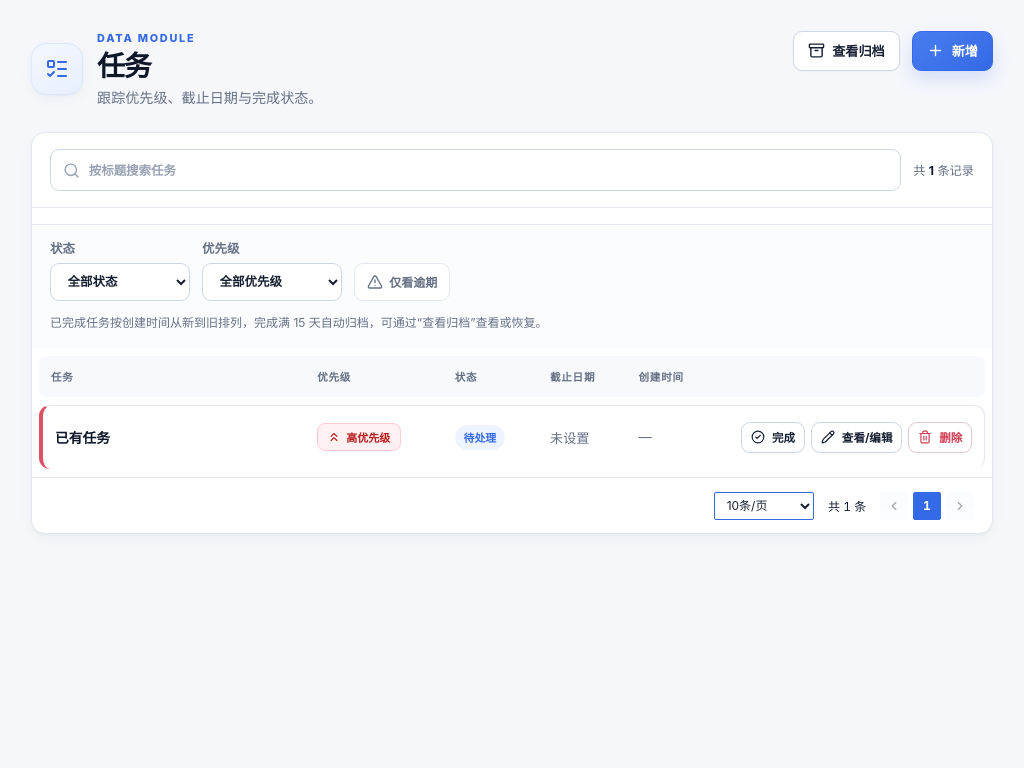
review report CRUD regressions › does not show a create/save form after detail HTTP 500; retry updates the existing revision
Click the button "查看/编辑". click: click(857, 438)
box: [811,422,902,453]
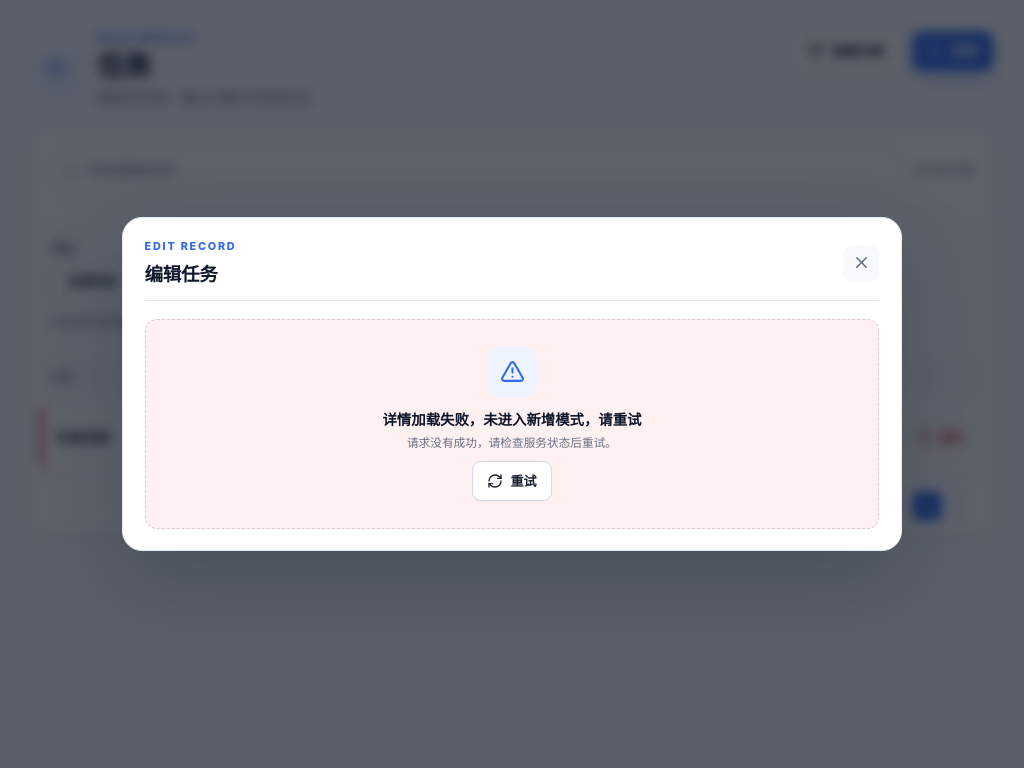
Expected: the button "保存" is not shown
Expected: the heading "详情加载失败，未进入新增模式，请重试" is shown, [382,408,642,429]
Expected: the heading "编辑任务" is shown, [145,263,218,285]
Click the button "重试". click: click(512, 481)
box: [472,461,552,501]
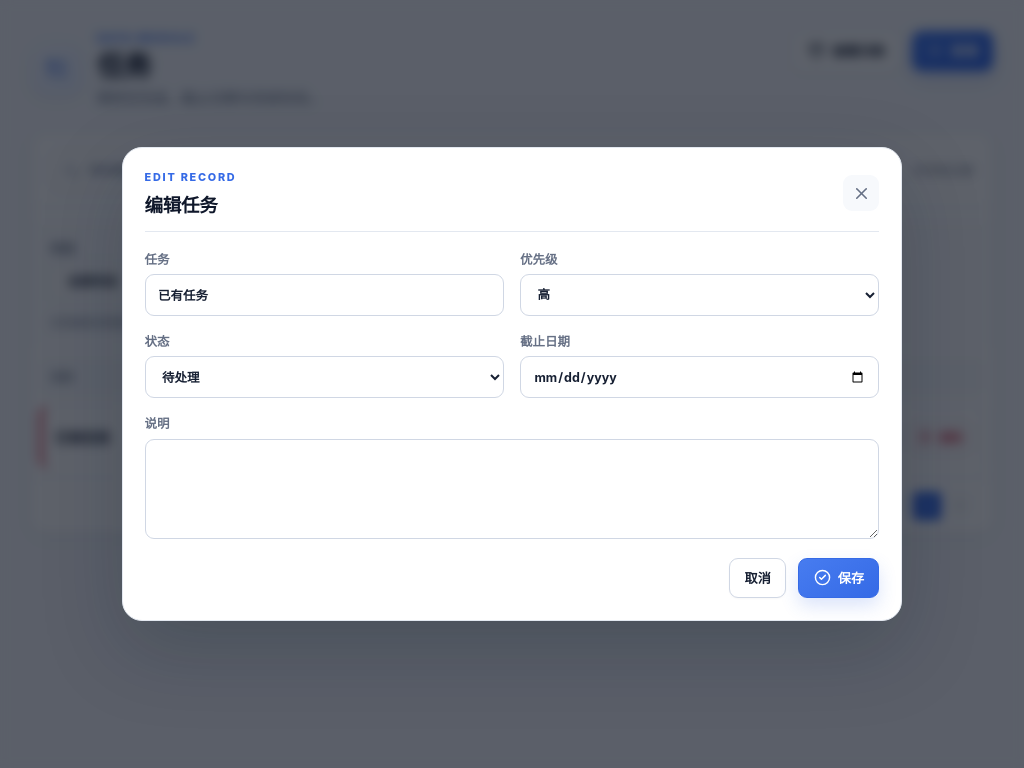
Expected: the field labelled "任务" holds "已有任务"
Replace the text in the field labelled "任务" with "修改后的任务". click: (324, 295)
box: [145,274,504,316]
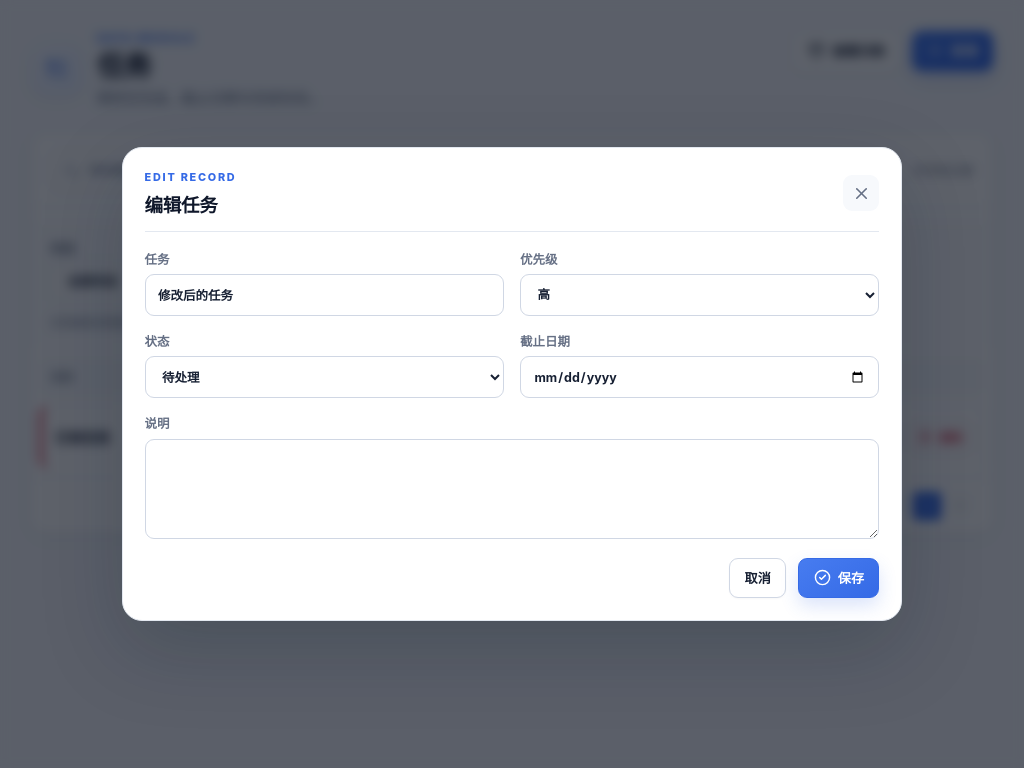
Submit the form labelled "任务", box [145,250,879,598]
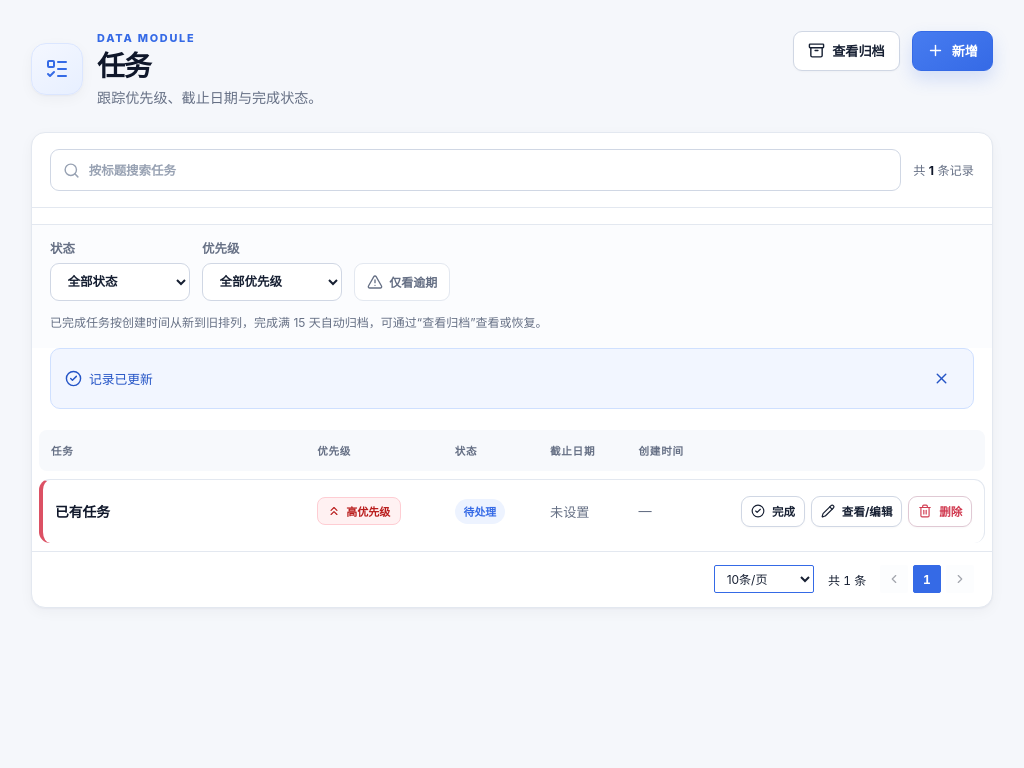
Expected: the dialog is gone
